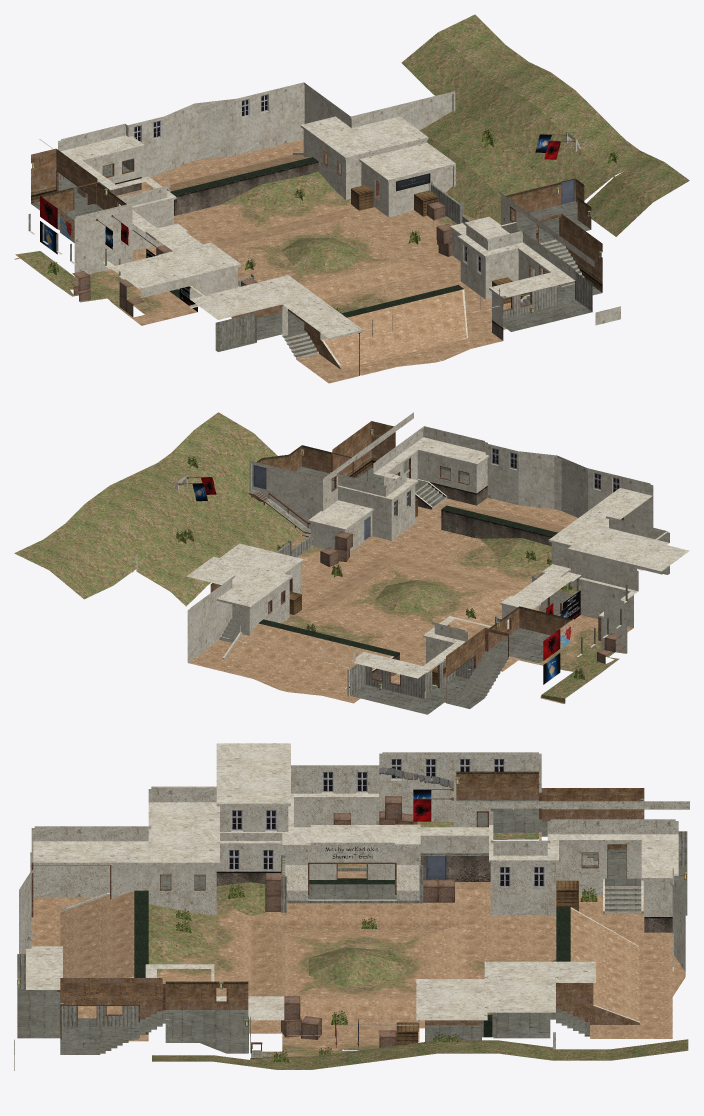
The model's file is aim_kosova_battle.gltf.
3 renders of one model, top to bottom at view 1: azimuth 30°, elevation 25°; view 2: azimuth 150°, elevation 25°; view 3: azimuth 270°, elevation 25°, orthographic. The views are drawn at different scales.
Visible parts, largest first — view 1: *0; view 2: *0; view 3: *0, *25, *1.
Boxes of the visible parts, x1,y1,x2,y2 form: *0: (14,14,689,383); *0: (14,412,689,714); *0: (14,743,689,1070); *25: (413,788,453,821); *1: (379,767,453,787).
Bounding box in the file's own units: 81.06 × 12.36 × 72.9.
